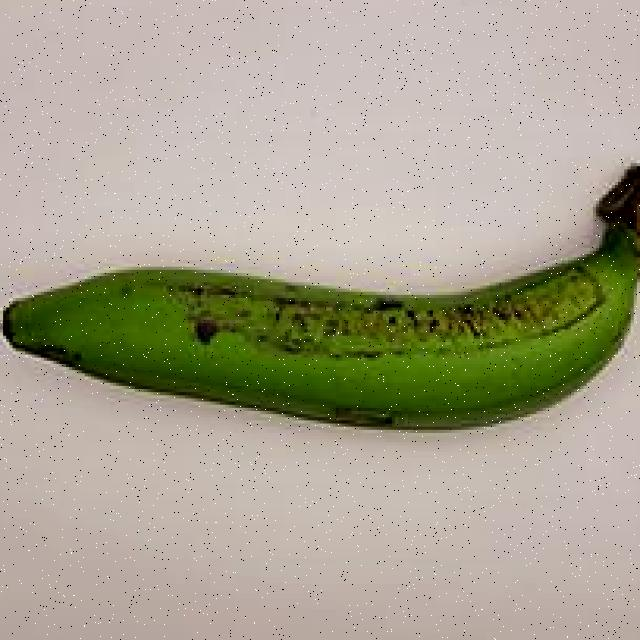Raw: (0, 126, 640, 452)
